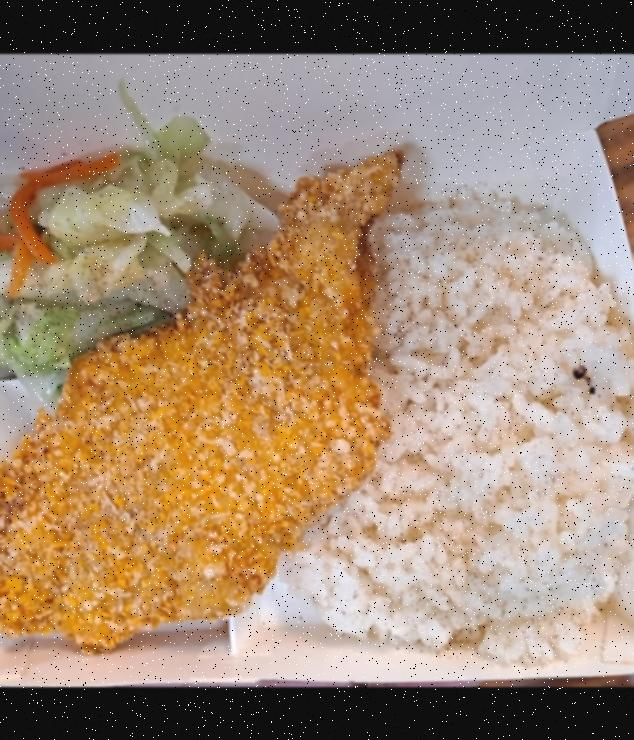box: (0, 102, 634, 684)
chicken steak: (0, 143, 417, 642)
side dish: (0, 133, 284, 371)
white rice: (264, 181, 634, 661)
